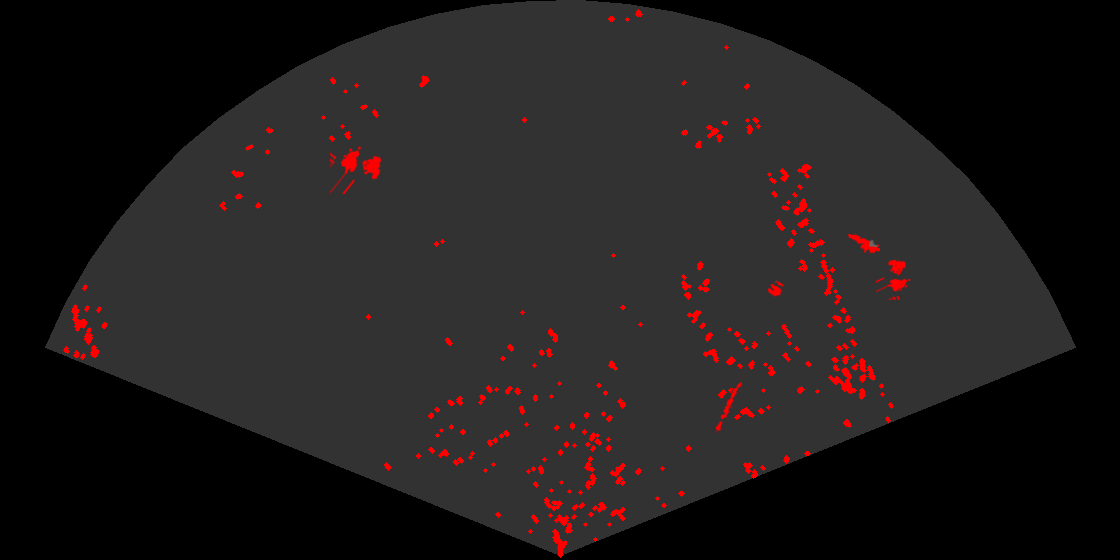ball: (766, 279, 786, 298)
cage: (330, 145, 383, 194), (876, 258, 912, 300)
chain: (713, 375, 745, 433)
frogman: (845, 232, 880, 255)
